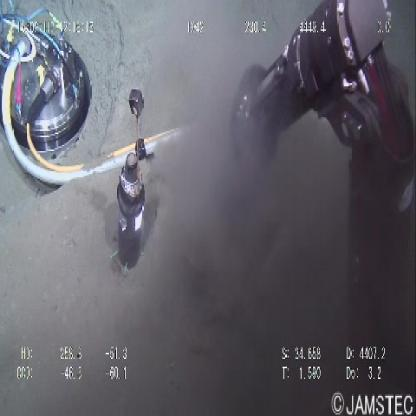Rov: (223, 1, 416, 175), (1, 1, 101, 182), (108, 83, 160, 294)
